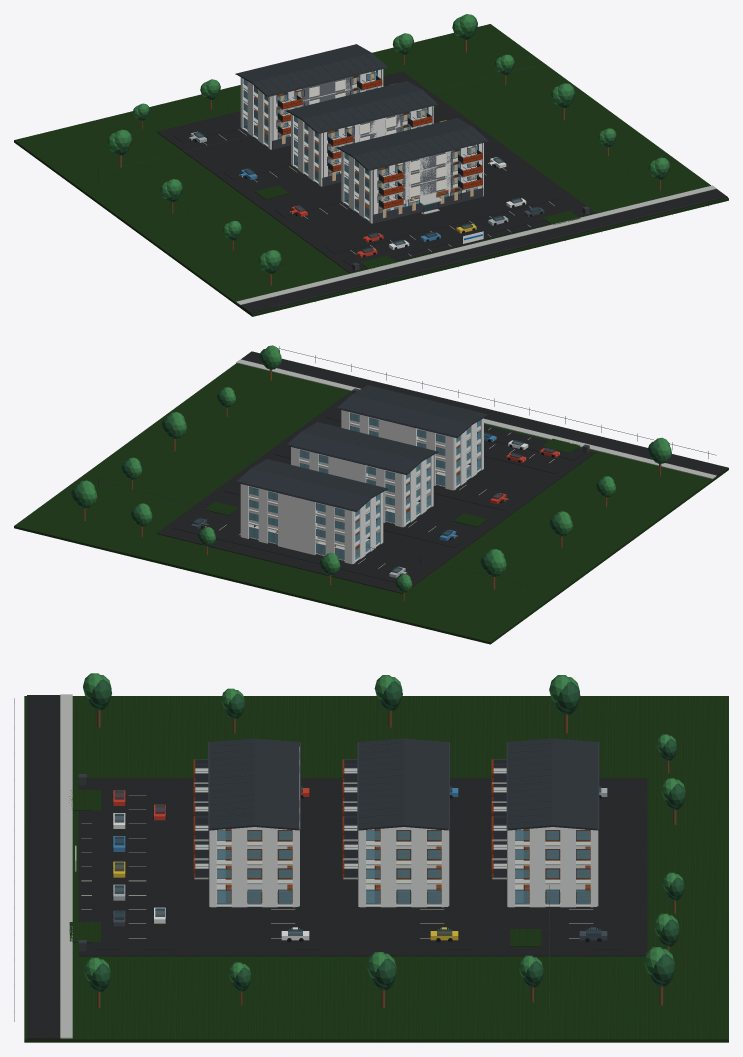
The model's file is intermedia-residential.glb.
3 views of the same model, one above another, from view 1: azimuth 30°, elevation 25°; view 2: azimuth 150°, elevation 25°; view 3: azimuth 270°, elevation 25° (orthographic). The views are drawn at different scales.
Visible parts, largest first — view 1: SITE_Terrain, SITE_Court, SITE_Street, SITE_Sidewalk, BLK-B_RoofSouth, BLK-C_RoofSouth, BLK-A_RoofSouth, SITE_Lane_-18.0, SITE_Lane_-26.0, BLK-A_RoofNorth, BLK-C_RoofNorth, BLK-B_RoofNorth (+7 smaller); view 2: SITE_Terrain, SITE_Court, SITE_Street, BLK-A_RoofNorth, BLK-B_RoofNorth, BLK-C_RoofNorth, SITE_Sidewalk, SITE_Lane_48.0, BLK-B_RoofSouth, BLK-C_RoofSouth, BLK-A_RoofSouth, SITE_Lane_26.0 (+14 smaller); view 3: SITE_Terrain, SITE_Court, SITE_Street, SITE_Sidewalk, SITE_Lane_-18.0, BLK-B_RoofSouth, BLK-A_RoofSouth, BLK-A_RoofNorth, BLK-B_RoofNorth, BLK-C_RoofNorth, BLK-C_RoofSouth, SITE_Lane_4.0 (+15 smaller).
Boxes of the visible parts, x1=… form: SITE_Terrain: x1=14, y1=24, x2=728, y2=316; SITE_Court: x1=157, y1=71, x2=595, y2=272; SITE_Street: x1=239, y1=189, x2=727, y2=313; SITE_Sidewalk: x1=236, y1=185, x2=716, y2=304; BLK-B_RoofSouth: x1=302, y1=89, x2=437, y2=132; BLK-C_RoofSouth: x1=251, y1=52, x2=387, y2=96; BLK-A_RoofSouth: x1=352, y1=126, x2=487, y2=169; SITE_Lane_-18.0: x1=325, y1=190, x2=564, y2=253; SITE_Lane_-26.0: x1=343, y1=204, x2=582, y2=266; BLK-A_RoofNorth: x1=337, y1=118, x2=472, y2=157; BLK-C_RoofNorth: x1=236, y1=44, x2=371, y2=82; BLK-B_RoofNorth: x1=287, y1=81, x2=421, y2=120; SITE_Terrain: x1=14, y1=351, x2=728, y2=644; SITE_Court: x1=156, y1=392, x2=595, y2=593; SITE_Street: x1=241, y1=351, x2=727, y2=476; BLK-A_RoofNorth: x1=337, y1=393, x2=472, y2=437; BLK-B_RoofNorth: x1=287, y1=430, x2=422, y2=474; BLK-C_RoofNorth: x1=236, y1=467, x2=372, y2=511; SITE_Sidewalk: x1=236, y1=359, x2=716, y2=478; SITE_Lane_48.0: x1=174, y1=521, x2=412, y2=582; BLK-B_RoofSouth: x1=302, y1=422, x2=437, y2=460; BLK-C_RoofSouth: x1=252, y1=459, x2=387, y2=497; BLK-A_RoofSouth: x1=352, y1=385, x2=487, y2=423; SITE_Lane_26.0: x1=224, y1=484, x2=463, y2=547; SITE_Terrain: x1=24, y1=696, x2=728, y2=1042; SITE_Court: x1=78, y1=778, x2=647, y2=956; SITE_Street: x1=27, y1=695, x2=61, y2=1039; SITE_Sidewalk: x1=60, y1=694, x2=72, y2=1038; SITE_Lane_-18.0: x1=146, y1=783, x2=173, y2=949; BLK-B_RoofSouth: x1=358, y1=738, x2=404, y2=830; BLK-A_RoofSouth: x1=209, y1=738, x2=255, y2=830; BLK-A_RoofNorth: x1=253, y1=738, x2=299, y2=830; BLK-B_RoofNorth: x1=402, y1=738, x2=448, y2=830; BLK-C_RoofNorth: x1=552, y1=738, x2=597, y2=830; BLK-C_RoofSouth: x1=507, y1=738, x2=553, y2=830; SITE_Lane_4.0: x1=295, y1=783, x2=322, y2=949.
Size of what is drawn, in the model's own units: 120 by 14.61 by 106.
44 materials, 8 textured.
